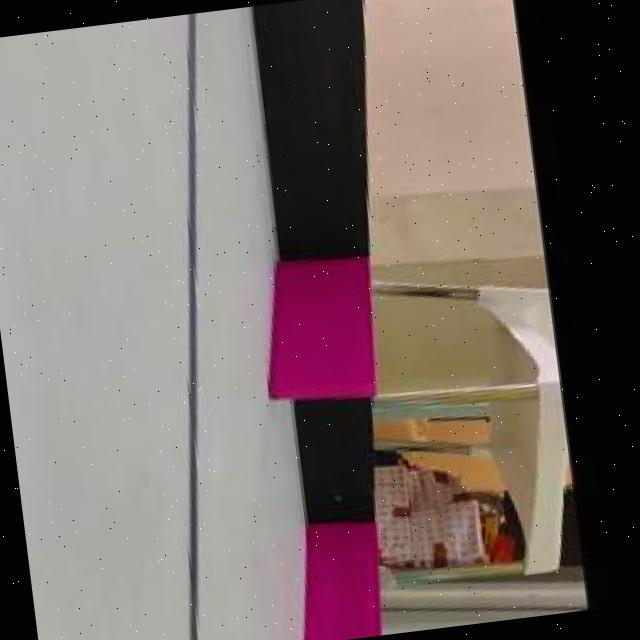xparking: (263, 264, 376, 401), (293, 519, 383, 640)
